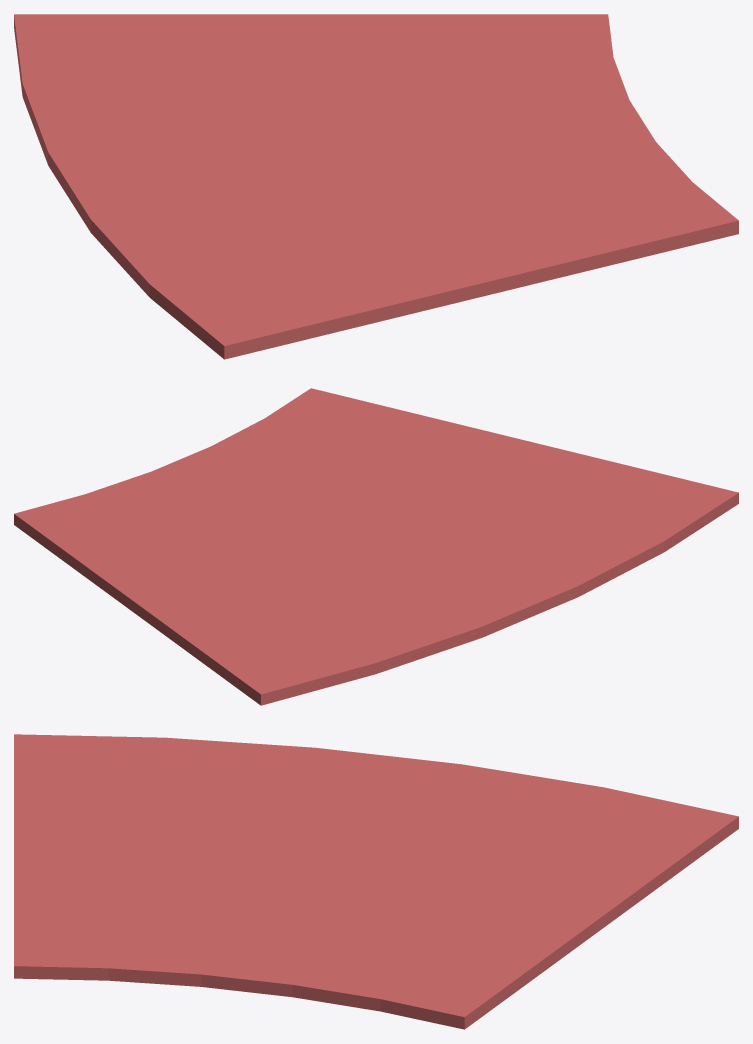
The model's file is floor_001_arch_stone_road_curved_right_collision.glb.
3 renders of one model, top to bottom at view 1: azimuth 30°, elevation 25°; view 2: azimuth 150°, elevation 25°; view 3: azimuth 270°, elevation 25°, orthographic. The views are drawn at different scales.
Parts seen in each view (by area): view 1: floor_001_arch_stone_road_curved_right_collision_curve; view 2: floor_001_arch_stone_road_curved_right_collision_curve; view 3: floor_001_arch_stone_road_curved_right_collision_curve.
Part boxes in pixels (x1,y1,x2,y2): floor_001_arch_stone_road_curved_right_collision_curve: (14,14,738,359); floor_001_arch_stone_road_curved_right_collision_curve: (14,388,738,705); floor_001_arch_stone_road_curved_right_collision_curve: (14,734,738,1029).
Bounding box in the file's own units: 17.08 × 0.35 × 18.5.
